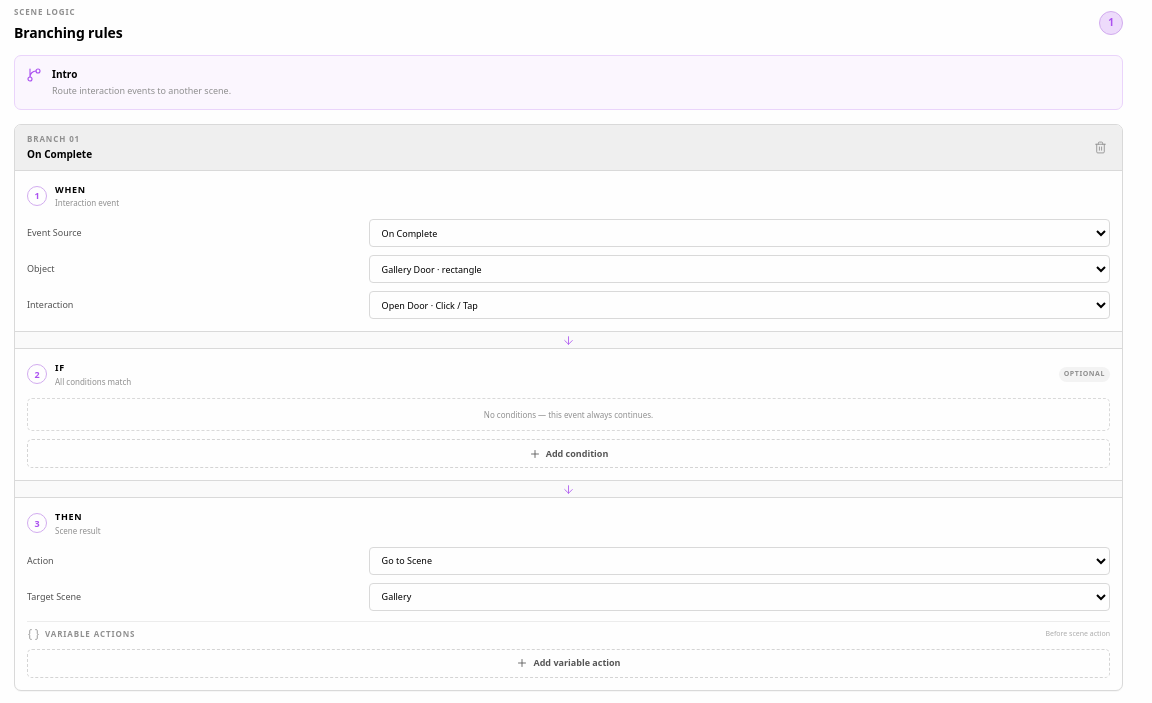
it: LogicPanel › keeps navigation actions and variable updates focused on scene routing
The width and height of the screenshot is (1152, 703).
Select "End Artwork" in the dropdown named "Scene Action" at (739, 561), box [369, 547, 1110, 575]
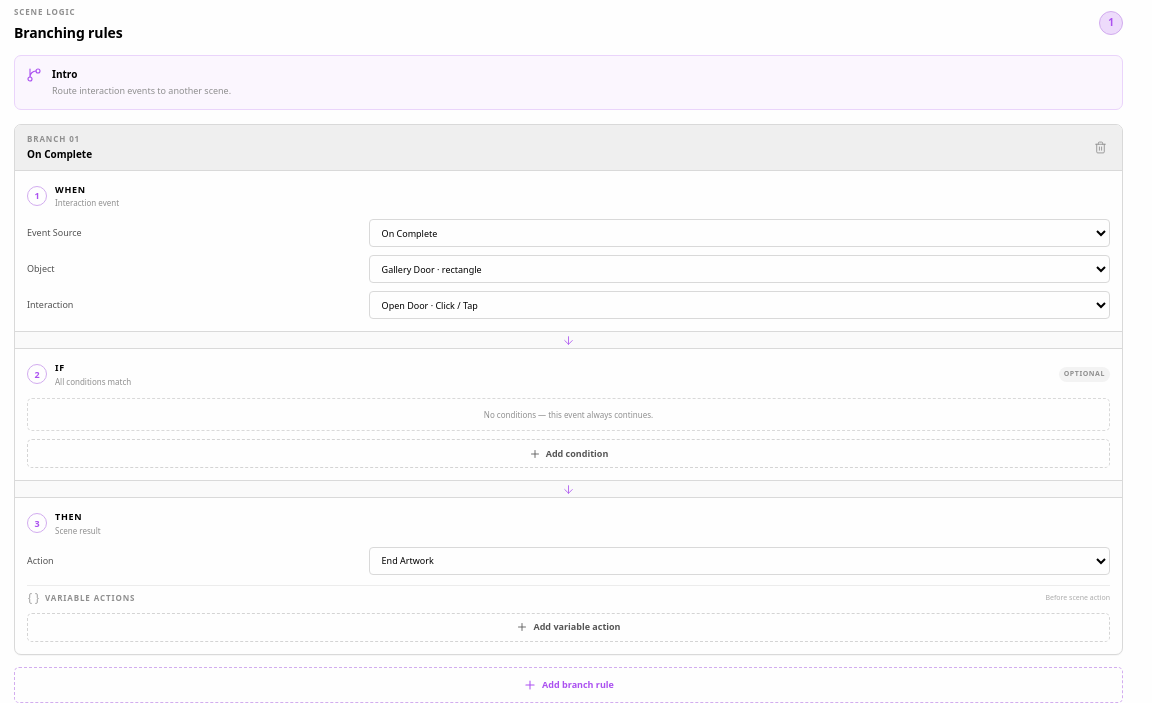
Expected: the text "Target Scene" is gone
Click the button "Add variable action" at (568, 627), box [27, 613, 1110, 642]
(page scrolled)
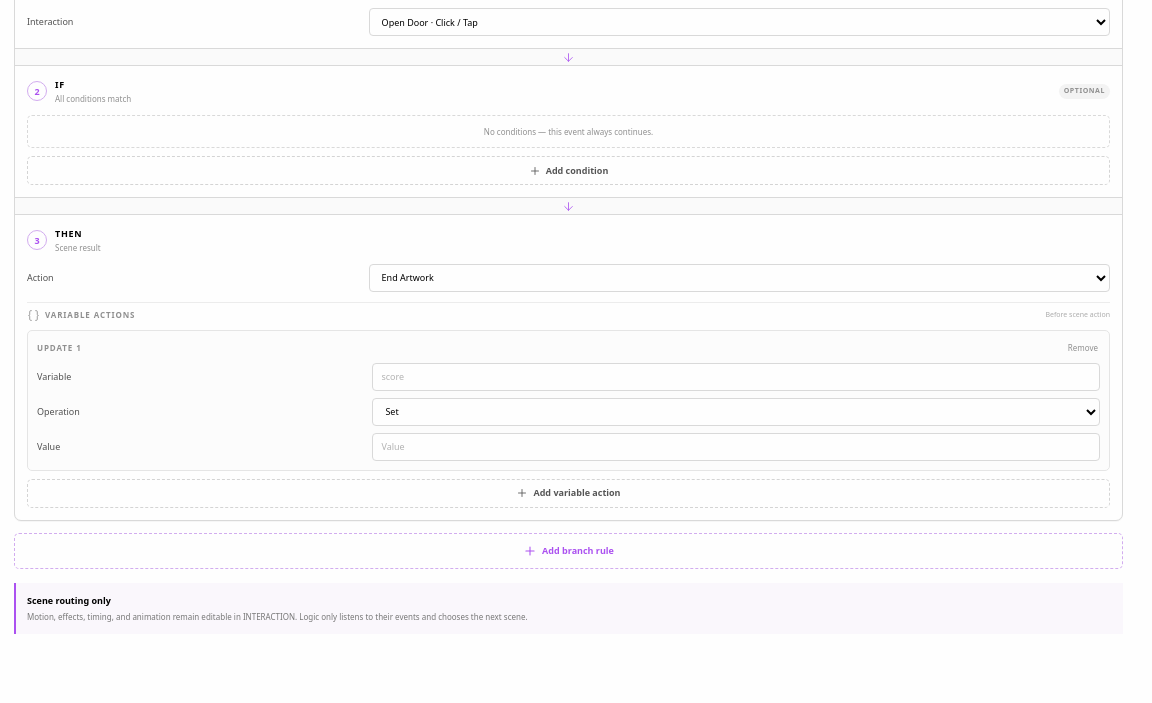
Select "Toggle" in the dropdown named "Variable Action 1 Operation" at (736, 412), box [372, 398, 1100, 426]
(page scrolled)
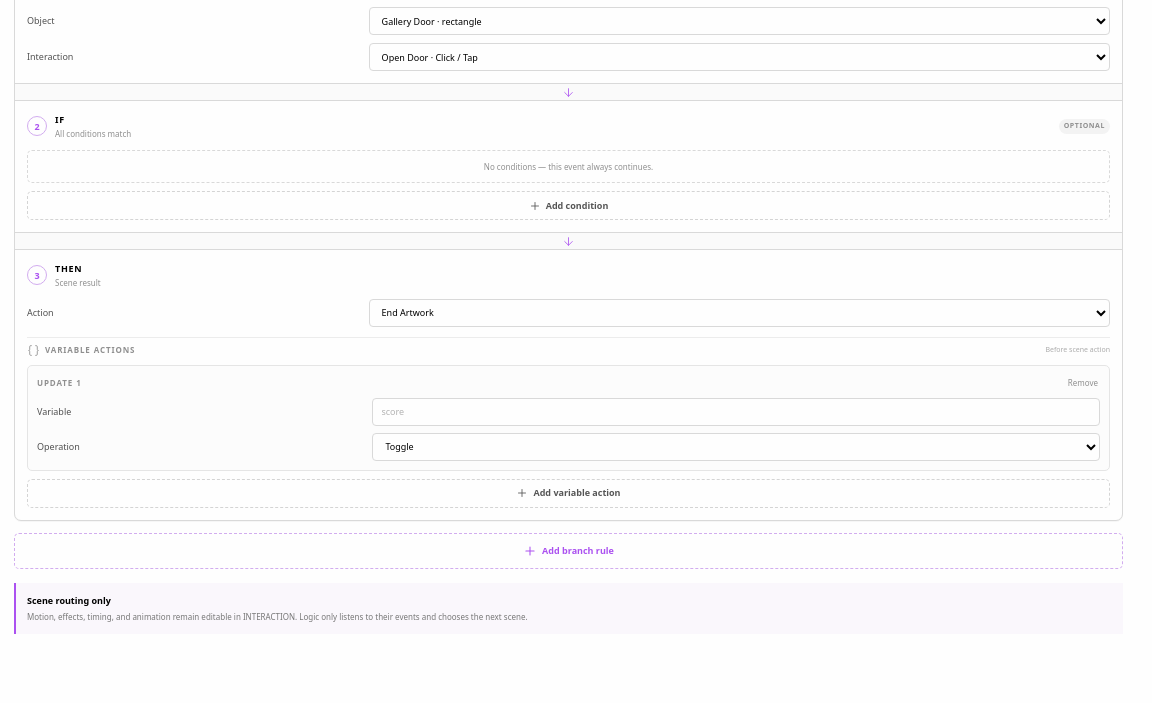
Expected: the text "Scene routing only" is shown, [27, 594, 111, 607]
Expected: the field labelled "Variable Action 1 Value" is gone
